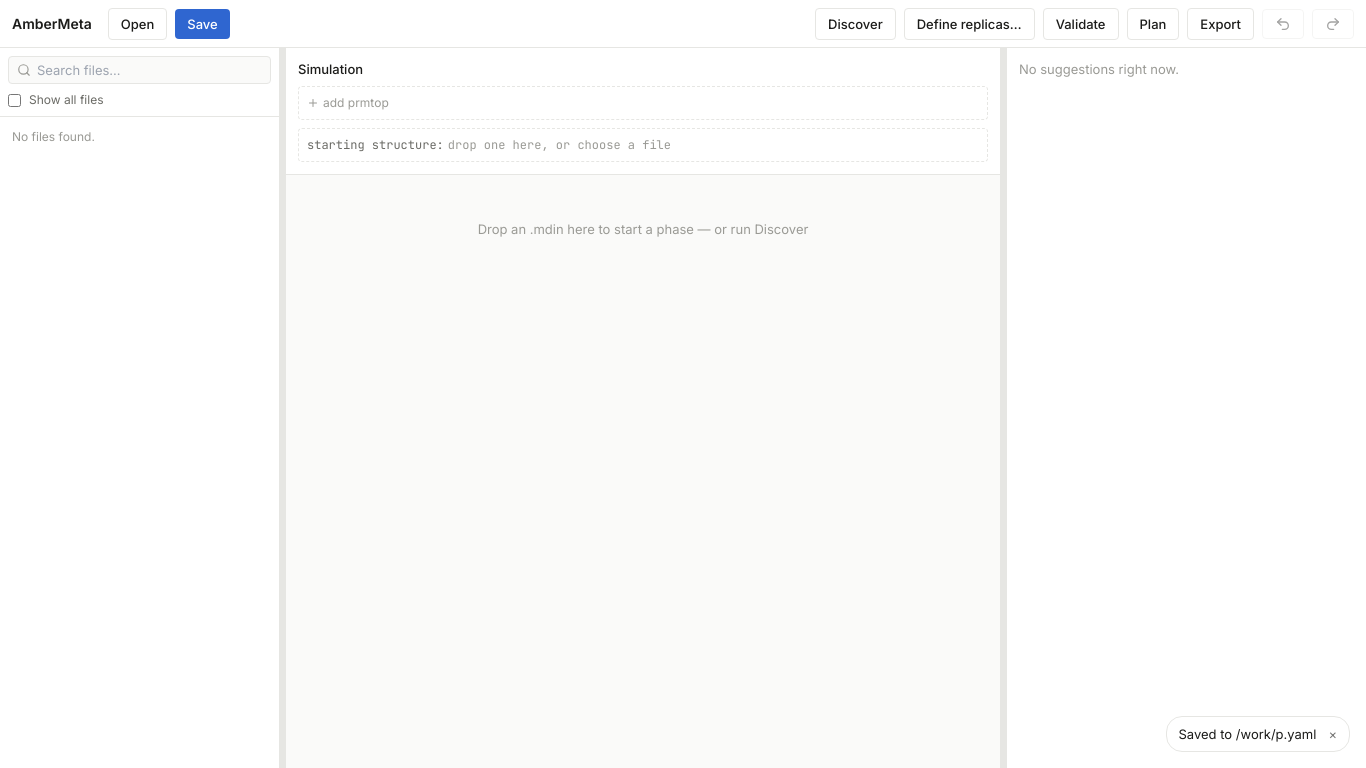
Test: lineage proposal wiring (P2.2/P2.3) › opens a working manual picker from Define replicas… on a tree the smart inference declines
Click the button "Define replicas…" at (969, 24), box [904, 8, 1035, 40]
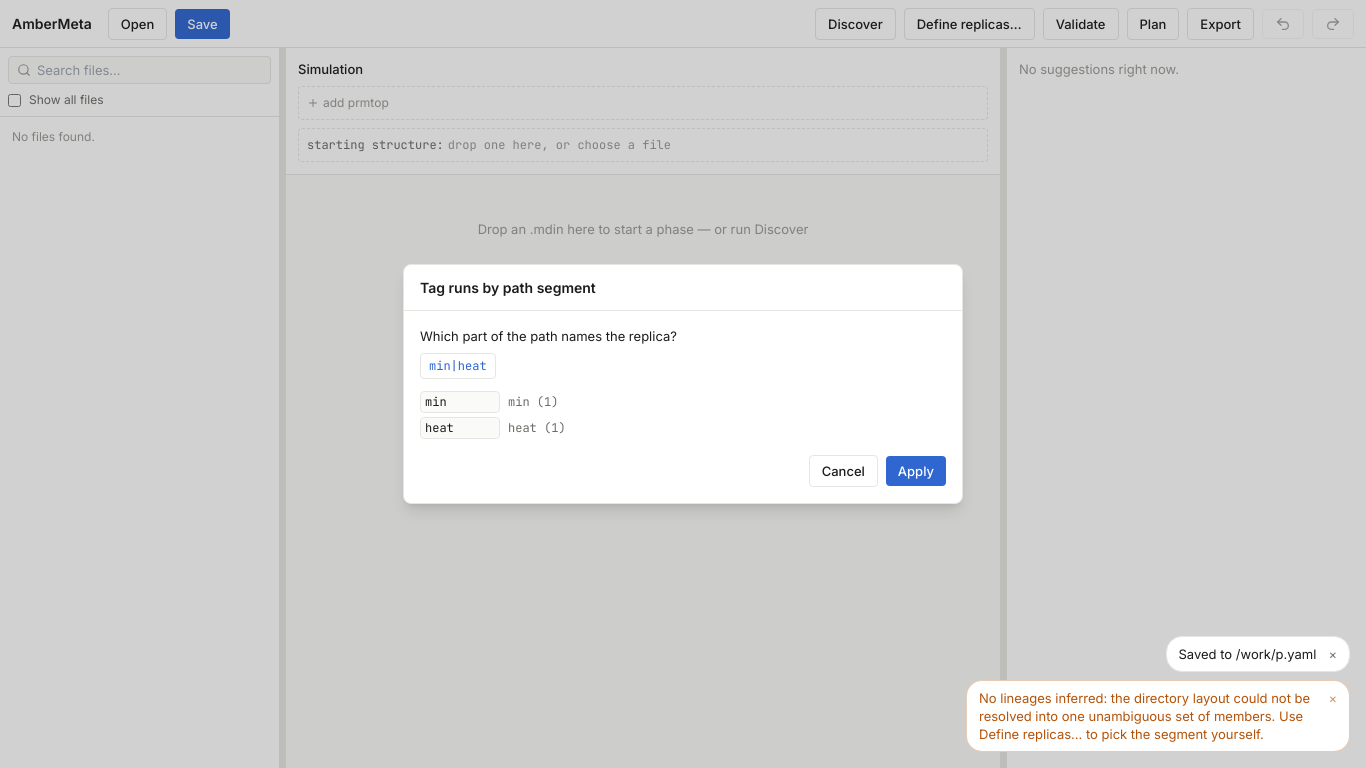
Check: the text "Which part of the path names the replica?" is shown, box [420, 328, 677, 344]
Check: the field named "tag for min" is shown, box [420, 391, 500, 413]
